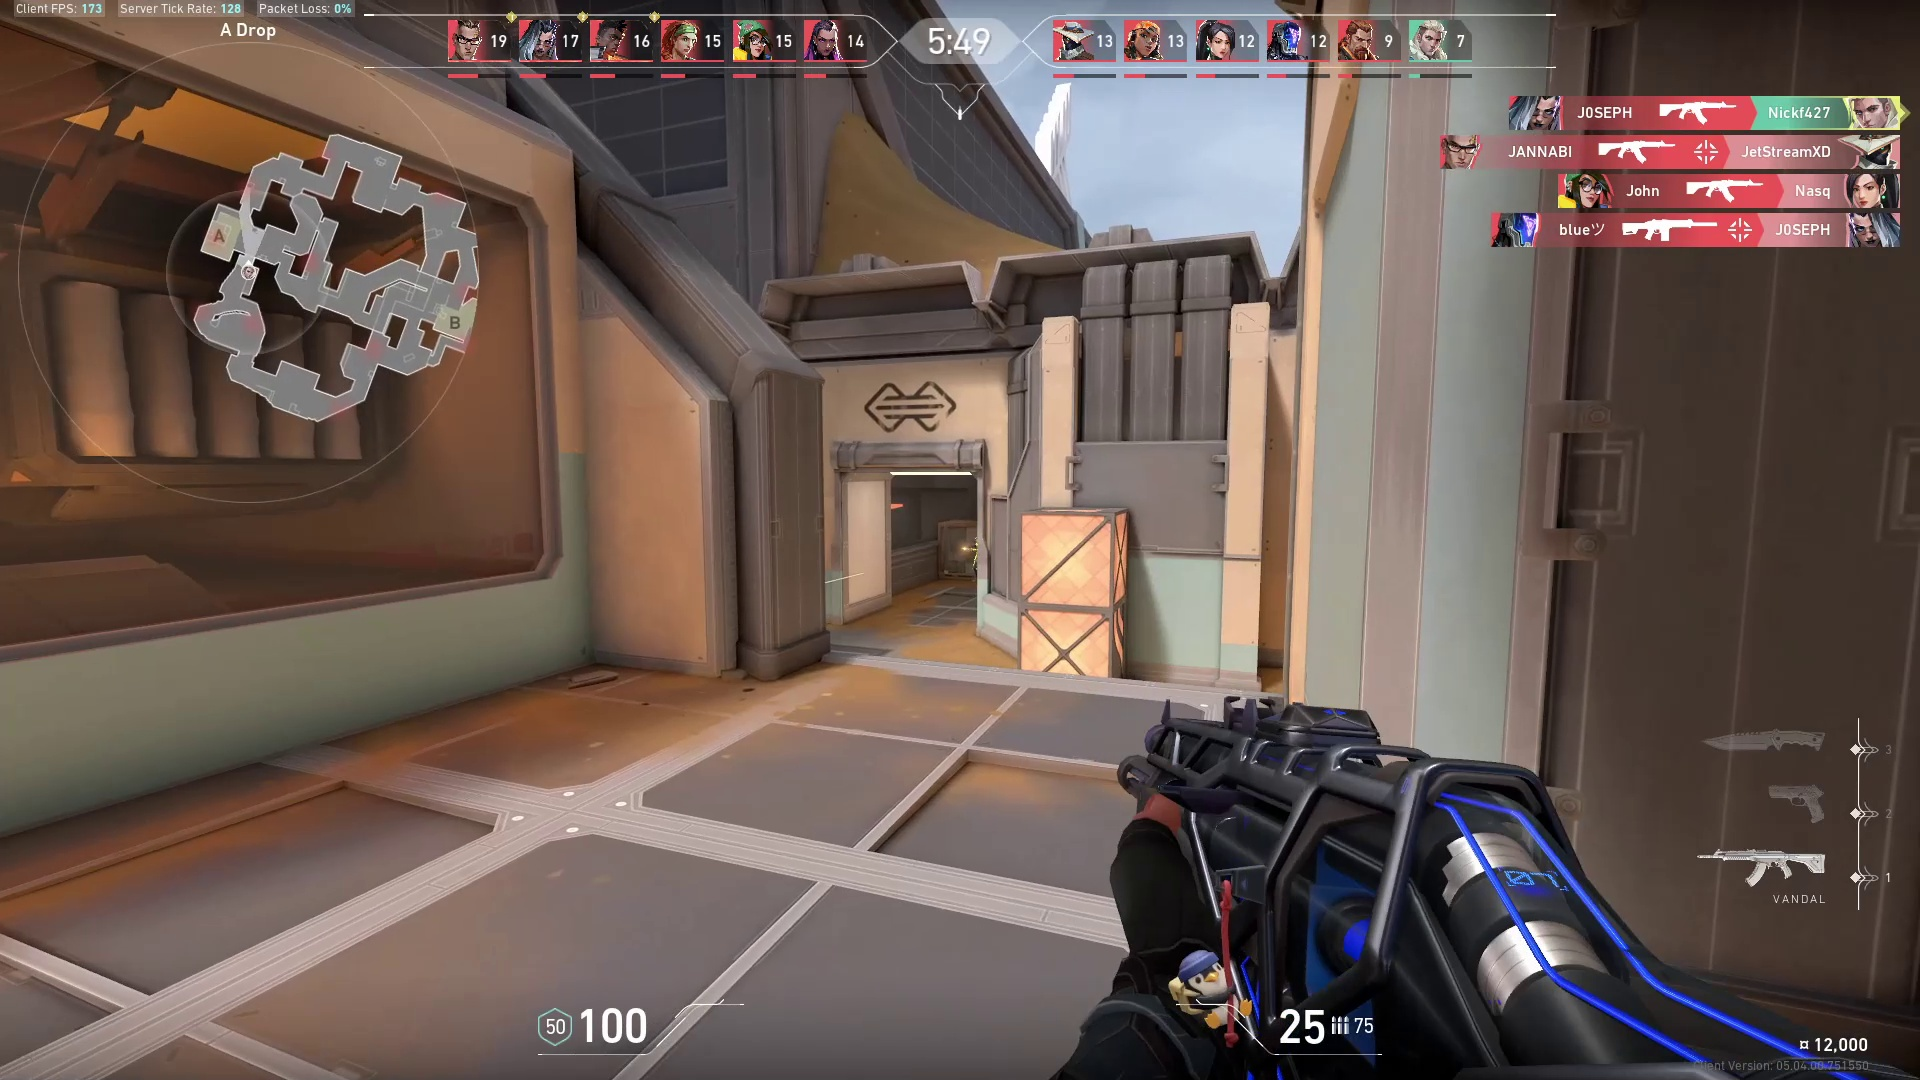enemy_body: (967, 543, 978, 584)
enemy_head: (973, 535, 978, 543)
